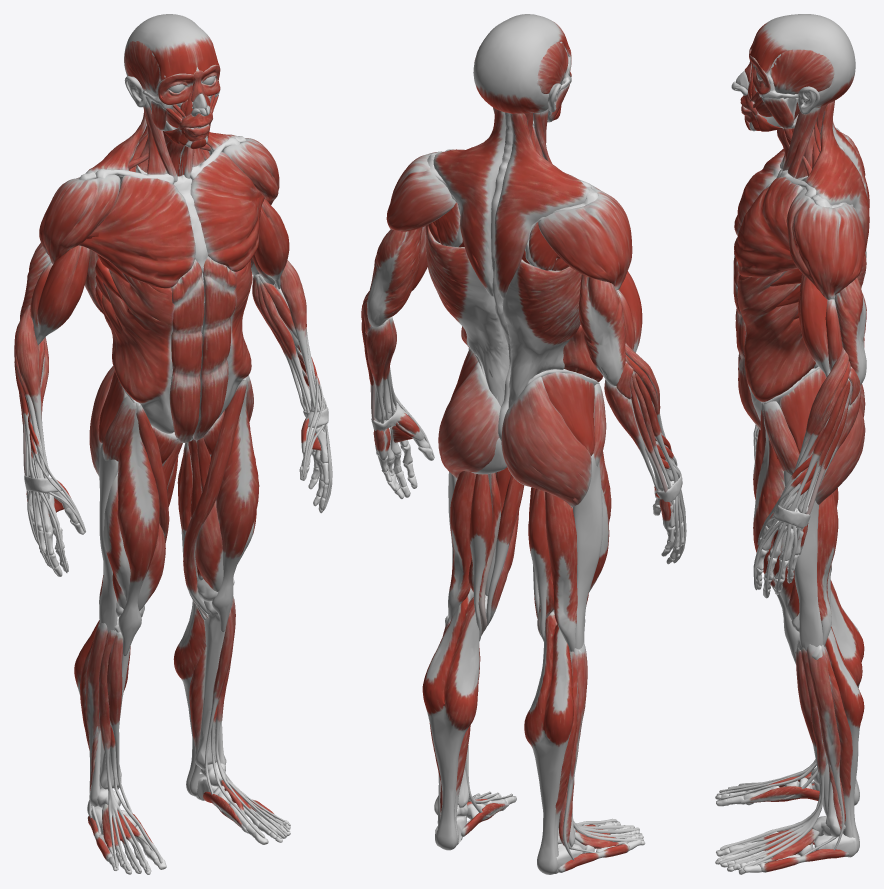
Rendered from body.glb.
3 views of the same model, side by side, from view 1: azimuth 30°, elevation 25°; view 2: azimuth 150°, elevation 25°; view 3: azimuth 270°, elevation 25° (orthographic). The views are drawn at different scales.
Parts seen in each view (by area): view 1: Object_23, Object_17, Object_29, Object_25, Object_31, Object_15, Object_33, Object_5, Object_7, Object_11, Object_27, Object_3 (+3 smaller); view 2: Object_13, Object_7, Object_3, Object_9, Object_5, Object_33, Object_15, Object_31, Object_29, Object_11, Object_25, Object_27 (+4 smaller); view 3: Object_23, Object_25, Object_15, Object_29, Object_31, Object_5, Object_7, Object_3, Object_33, Object_13, Object_11, Object_17 (+3 smaller).
Boxes of the visible parts, x1,y1,x2,y2 form: Object_23: (78,152,264,442); Object_17: (103,377,259,656); Object_29: (26,52,328,874); Object_25: (85,595,290,872); Object_31: (14,260,332,576); Object_15: (124,14,220,149); Object_33: (20,199,289,345); Object_5: (39,138,279,263); Object_7: (74,572,206,814); Object_11: (24,76,328,631); Object_27: (151,410,224,615); Object_3: (89,334,253,476); Object_13: (425,109,589,407); Object_7: (422,595,578,874); Object_3: (438,349,606,507); Object_9: (448,471,577,651); Object_5: (386,151,632,289); Object_33: (367,226,642,385); Object_15: (473,14,571,121); Object_31: (361,291,686,562); Object_29: (371,41,684,873); Object_11: (371,83,682,649); Object_25: (437,617,643,872); Object_27: (484,467,554,630); Object_23: (733,149,815,429); Object_25: (716,644,849,872); Object_15: (740,14,855,131); Object_29: (715,48,857,874); Object_31: (753,347,861,597); Object_5: (786,127,865,299); Object_7: (824,580,864,852); Object_3: (763,368,865,504); Object_33: (798,249,866,384); Object_13: (770,100,869,368); Object_11: (731,71,847,650); Object_17: (753,402,799,664).
Bounding box in the file's own units: 26.14 × 68.16 × 11.69.
16 materials, 14 textured.
